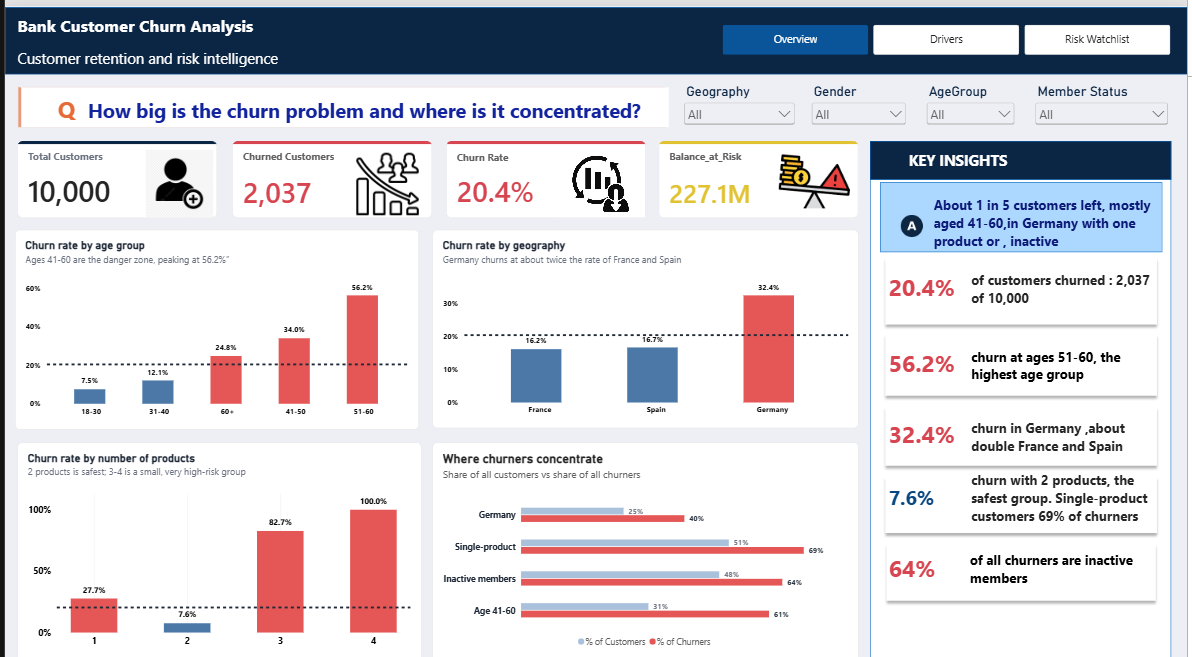

What the dashboard file says about the page in this screenshot:
{"tool":"powerbi","page":{"name":"Overview","canvas":[1920,1080],"ordinal":0},"visuals":[{"type":"shape","box":[0,2.1,1920.4,109.1],"z":0},{"type":"textbox","box":[20.6,14.4,512.5,94.7],"z":1000},{"type":"pageNavigator","box":[1165,30.9,728.6,49.4],"z":2000},{"type":"shape","box":[20.3,125.9,1063.7,77.1],"z":3000},{"type":"textbox","box":[48.7,142.1,1035.3,60.9],"z":4000},{"type":"slicer","fields":{"Values":["bank_churn_clean.Geography"]},"box":[1098.2,125.9,188.8,77.1],"z":5000},{"type":"slicer","fields":{"Values":["bank_churn_clean.Gender"]},"box":[1305.3,125.9,162.4,77.1],"z":6000},{"type":"slicer","fields":{"Values":["bank_churn_clean.AgeGroup"]},"box":[1492.1,125.9,152.3,77.1],"z":7000},{"type":"slicer","fields":{"Values":["bank_churn_clean.Member Status"]},"box":[1668.7,125.9,225.3,77.1],"z":8000},{"type":"cardVisual","fields":{"Data":["bank_churn_clean.Total Customers"]},"box":[20.3,219.2,324.8,125.9],"z":9000},{"type":"cardVisual","fields":{"Data":["bank_churn_clean.Churned Customers"]},"box":[369.5,219.2,324.8,125.9],"z":10000},{"type":"cardVisual","fields":{"Data":["bank_churn_clean.Churn Rate"]},"box":[716.6,219.2,324.8,125.9],"z":11000},{"type":"cardVisual","fields":{"Data":["bank_churn_clean.Balance_at_Risk"]},"box":[1061.7,219.2,324.8,125.9],"z":12000},{"type":"clusteredColumnChart","title":"Churn rate by age group","fields":{"Category":["bank_churn_clean.AgeGroup"],"Y":["bank_churn_clean.Churn Rate"]},"box":[16.2,363.4,655.7,324.8],"z":13000},{"type":"clusteredColumnChart","title":"Churn rate by geography","fields":{"Category":["bank_churn_clean.Geography"],"Y":["bank_churn_clean.Churn Rate"]},"box":[694.3,363.4,692.2,322.8],"z":14000},{"type":"clusteredColumnChart","title":"Churn rate by number of products","fields":{"Category":["bank_churn_clean.NumOfProducts"],"Y":["bank_churn_clean.Churn Rate"]},"box":[20.3,708.5,655.7,355.3],"z":15000},{"type":"clusteredBarChart","title":"Where churners concentrate","fields":{"Category":["Segment_table.Segment"],"Y":["bank_churn_clean.% of Customers","bank_churn_clean.% of Churners"]},"box":[694,708,692,355],"z":16000},{"type":"shape","box":[1404.8,219.2,489.2,844.5],"z":17000},{"type":"shape","box":[1404.8,219.2,489.2,62.9],"z":18000},{"type":"textbox","box":[1467.7,233.5,284.2,48.7],"z":19000},{"type":"shape","box":[1421,286.2,458.8,113.7],"z":20000},{"type":"image","box":[1453.5,326.8,38.6,60.9],"z":21000},{"type":"textbox","box":[1508.3,308.6,357.3,129.9],"z":22000},{"type":"shape","box":[1421,399.9,458.8,125.9],"z":23000},{"type":"shape","box":[1421,523.7,458.8,117.7],"z":24000},{"type":"shape","box":[1421,641.5,458.8,113.7],"z":25000},{"type":"shape","box":[1421,755.2,458.8,109.6],"z":26000},{"type":"textbox","box":[1435.2,430.4,119.8,62.9],"z":27000},{"type":"textbox","box":[1569.2,430.4,310.6,93.4],"z":28000},{"type":"textbox","box":[1435.2,554.2,134,87.3],"z":29000},{"type":"textbox","box":[369.5,257.8,30.5,142.1],"z":30000},{"type":"textbox","box":[1569.2,554.2,296.4,87.3],"z":31000},{"type":"textbox","box":[1435.2,669.9,119.8,69],"z":32000},{"type":"textbox","box":[1569.2,669.9,310.6,69],"z":33000},{"type":"textbox","box":[1445.4,846.5,144.1,142.1],"z":34000},{"type":"textbox","box":[1435.2,775.5,119.8,71.1],"z":35000},{"type":"textbox","box":[1570,756,296,108],"z":36000},{"type":"shape","box":[1423.1,864.8,454.7,109.6],"z":37000},{"type":"textbox","box":[1435.2,887.1,154.3,71.1],"z":38000},{"type":"textbox","box":[1568,886,298,88],"z":39000},{"type":"image","box":[221.3,233.5,123.8,109.6],"z":40000},{"type":"image","box":[570.4,233.5,101.5,111.7],"z":41000},{"type":"image","box":[895.2,233.5,144.1,109.6],"z":42000},{"type":"image","box":[1242.4,233.5,144.1,95.4],"z":43000}]}

Visuals, with their boxes in screenshot pixels (x1, y1, x2, y2), scaled from the page's 1920x1080 canvas onto the 1192x657 screenshot:
shape: l=0, t=1, r=1191, b=68
textbox: l=13, t=9, r=331, b=66
pageNavigator: l=723, t=19, r=1176, b=49
shape: l=13, t=77, r=673, b=123
textbox: l=30, t=86, r=673, b=123
slicer - bank_churn_clean.Geography: l=682, t=77, r=799, b=123
slicer - bank_churn_clean.Gender: l=810, t=77, r=911, b=123
slicer - bank_churn_clean.AgeGroup: l=926, t=77, r=1021, b=123
slicer - bank_churn_clean.Member Status: l=1036, t=77, r=1176, b=123
cardVisual - bank_churn_clean.Total Customers: l=13, t=133, r=214, b=210
cardVisual - bank_churn_clean.Churned Customers: l=229, t=133, r=431, b=210
cardVisual - bank_churn_clean.Churn Rate: l=445, t=133, r=647, b=210
cardVisual - bank_churn_clean.Balance_at_Risk: l=659, t=133, r=861, b=210
"Churn rate by age group" clusteredColumnChart: l=10, t=221, r=417, b=419
"Churn rate by geography" clusteredColumnChart: l=431, t=221, r=861, b=417
"Churn rate by number of products" clusteredColumnChart: l=13, t=431, r=420, b=647
"Where churners concentrate" clusteredBarChart: l=431, t=431, r=860, b=647
shape: l=872, t=133, r=1176, b=647
shape: l=872, t=133, r=1176, b=172
textbox: l=911, t=142, r=1088, b=172
shape: l=882, t=174, r=1167, b=243
image: l=902, t=199, r=926, b=236
textbox: l=936, t=188, r=1158, b=267
shape: l=882, t=243, r=1167, b=320
shape: l=882, t=319, r=1167, b=390
shape: l=882, t=390, r=1167, b=459
shape: l=882, t=459, r=1167, b=526
textbox: l=891, t=262, r=965, b=300
textbox: l=974, t=262, r=1167, b=319
textbox: l=891, t=337, r=974, b=390
textbox: l=229, t=157, r=248, b=243
textbox: l=974, t=337, r=1158, b=390
textbox: l=891, t=408, r=965, b=449
textbox: l=974, t=408, r=1167, b=449
textbox: l=897, t=515, r=987, b=601
textbox: l=891, t=472, r=965, b=515
textbox: l=975, t=460, r=1158, b=526
shape: l=884, t=526, r=1166, b=593
textbox: l=891, t=540, r=987, b=583
textbox: l=973, t=539, r=1158, b=593
image: l=137, t=142, r=214, b=209
image: l=354, t=142, r=417, b=210
image: l=556, t=142, r=645, b=209
image: l=771, t=142, r=861, b=200
